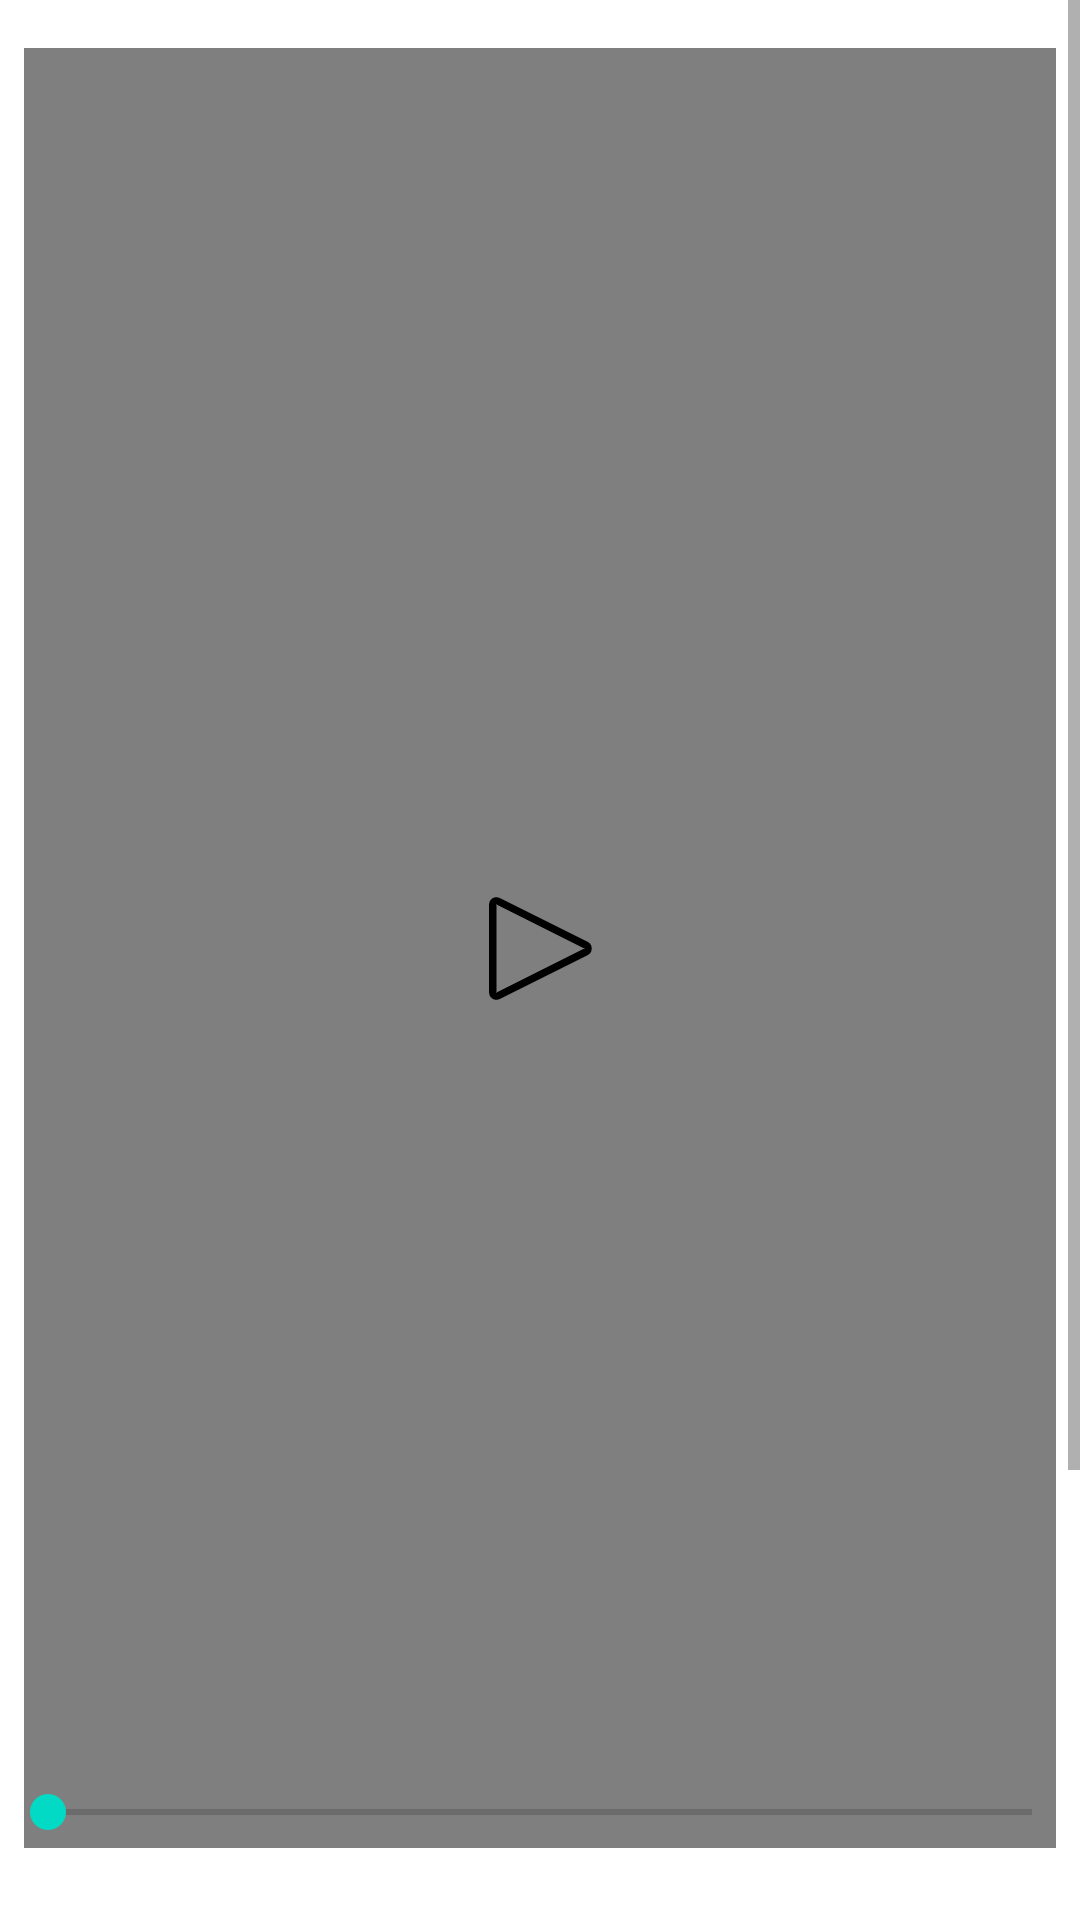

Locate icon controls on the screen. Image size 1080px×1920px, boxes as (x1, y1, x2, y2).
play: (489, 897, 592, 1000)
